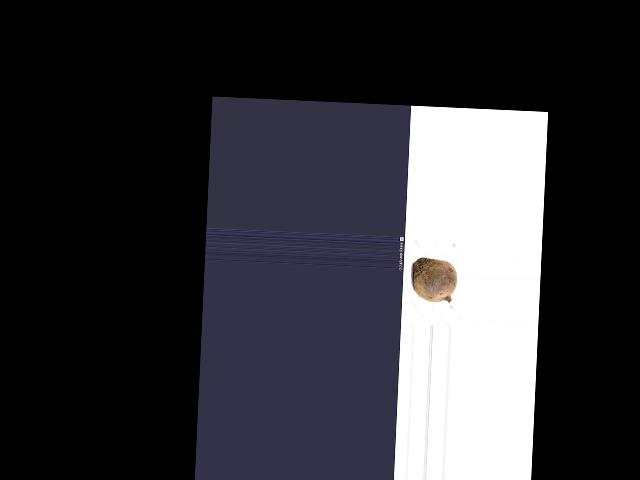beet: (411, 257, 457, 303)
